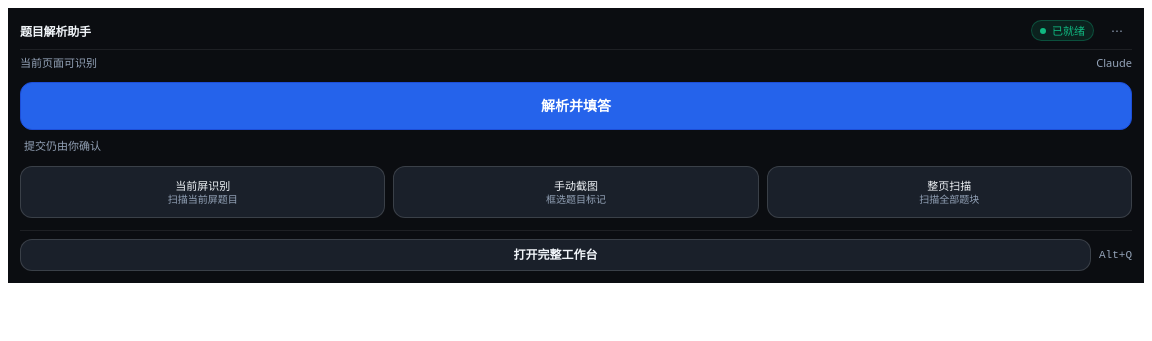
Test case: PopupApp protected dispatch authority › RC03A_R5_POPUP_ACK_ONLY never closes on a transport ACK without exact completion
The width and height of the screenshot is (1152, 341).
Click the text "当前屏识别" at (203, 185), box x1=175 y1=179 x2=230 y2=192
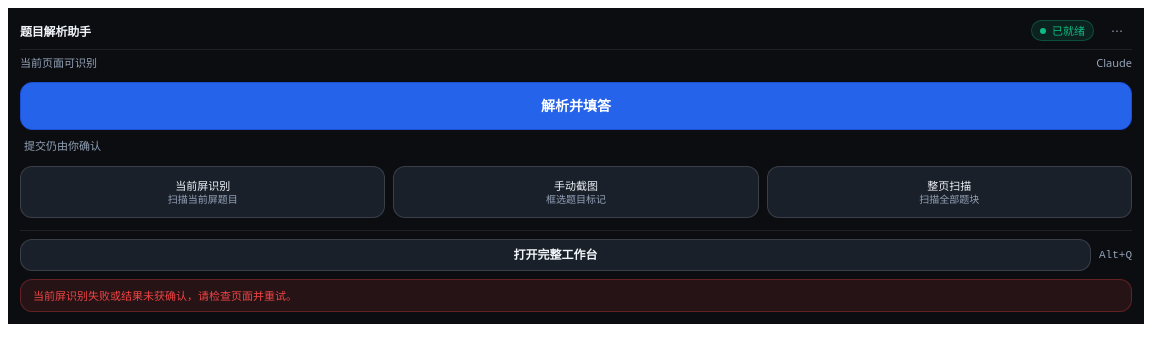
Result: the text "当前屏识别失败或结果未获确认，请检查页面并重试。" is shown at x1=33 y1=288 x2=297 y2=303
